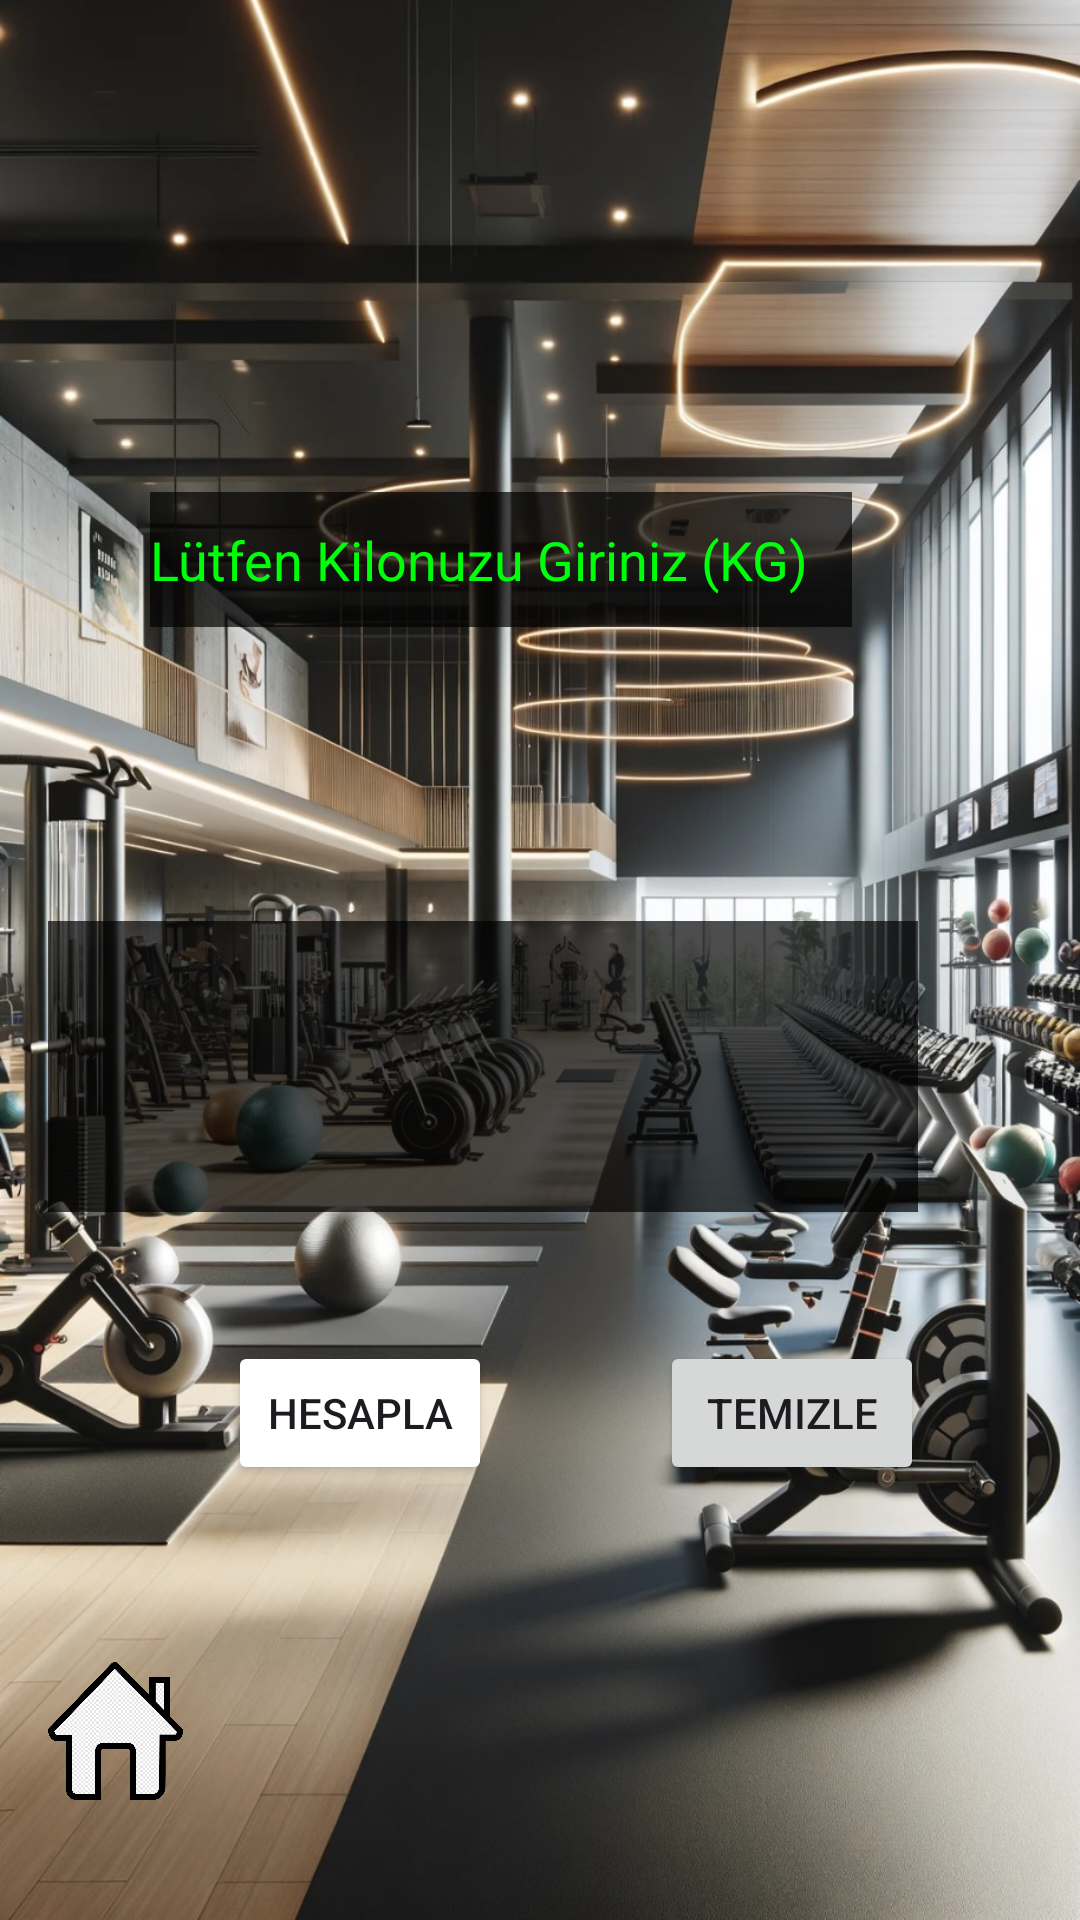

Icon click points for this 1080px×1920px phone screenshot, format [x,y]:
home: [115,1731]
